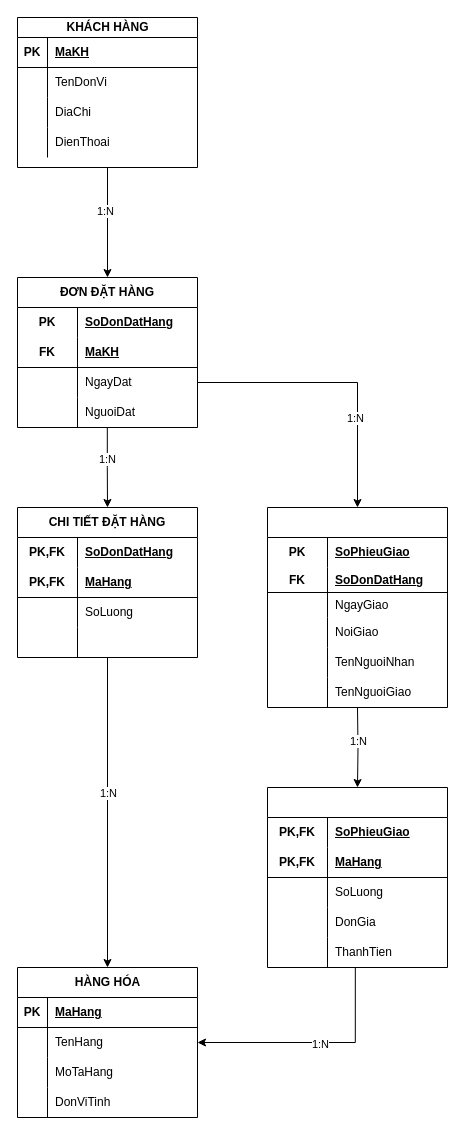
Some shapes in this 465 by 1135 pixel diagram are drawn without their labels. The shapes that lost their labels are listed below. From the top down, each one's box as (x1, y1, x2, y2) in pixels, then its label:
(266, 506, 448, 708): PHIẾU GIAO HÀNG
(266, 786, 448, 968): CHI TIẾT GIAO HÀNG
